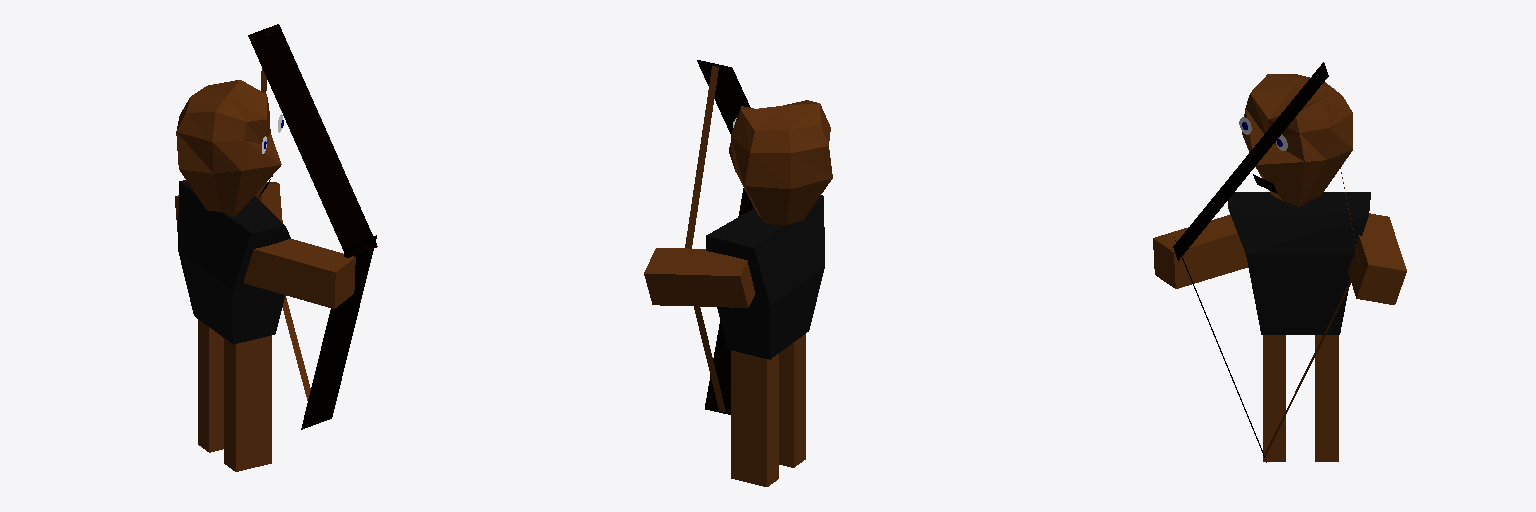
The model's file is archer1f.obj.
3 renders of one model, left to right at view 1: azimuth 30°, elevation 25°; view 2: azimuth 150°, elevation 25°; view 3: azimuth 270°, elevation 25°, orthographic.
Parts seen in each view (by area): view 1: Cube.001, Cube, Plane.002_Plane.003, Cube.004, Cube.003, Plane.001_Plane.002, Cube.005, Plane.003_Plane.004, Cube.002; view 2: Cube.001, Cube, Cube.005, Cube.002, Cube.004, Plane.003_Plane.004, Plane.002_Plane.003, Plane.001_Plane.002; view 3: Cube.001, Cube, Cube.003, Cube.002, Plane.002_Plane.003, Cube.005, Cube.004.
Boxes of the visible parts, <box> form: Cube.001: <box>178,180,290,344</box>; Cube: <box>176,80,281,216</box>; Plane.002_Plane.003: <box>248,24,377,257</box>; Cube.004: <box>224,335,271,471</box>; Cube.003: <box>244,239,355,308</box>; Plane.001_Plane.002: <box>301,235,376,429</box>; Cube.005: <box>198,319,223,452</box>; Plane.003_Plane.004: <box>256,34,310,400</box>; Cube.002: <box>175,182,282,231</box>; Cube.001: <box>706,195,824,359</box>; Cube: <box>729,100,832,224</box>; Cube.005: <box>731,350,778,486</box>; Cube.002: <box>644,248,754,307</box>; Cube.004: <box>779,334,805,467</box>; Plane.003_Plane.004: <box>685,66,725,411</box>; Plane.002_Plane.003: <box>697,60,750,133</box>; Plane.001_Plane.002: <box>705,188,753,414</box>; Cube.001: <box>1228,192,1370,334</box>; Cube: <box>1242,74,1352,206</box>; Cube.003: <box>1153,215,1247,288</box>; Cube.002: <box>1348,213,1406,304</box>; Plane.002_Plane.003: <box>1173,62,1328,260</box>; Cube.005: <box>1315,335,1338,461</box>; Cube.004: <box>1263,335,1285,461</box>.
Size of the model in its own units: 2.42 by 6.6 by 3.75.